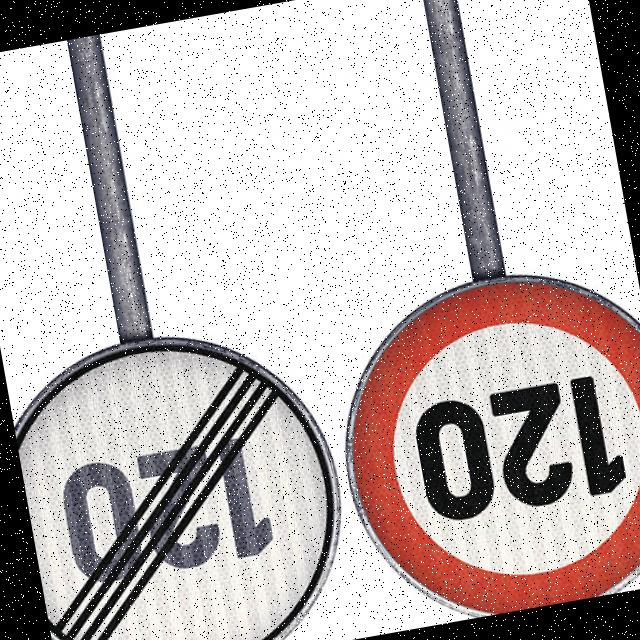speed_limit_120: (317, 248, 640, 635)
